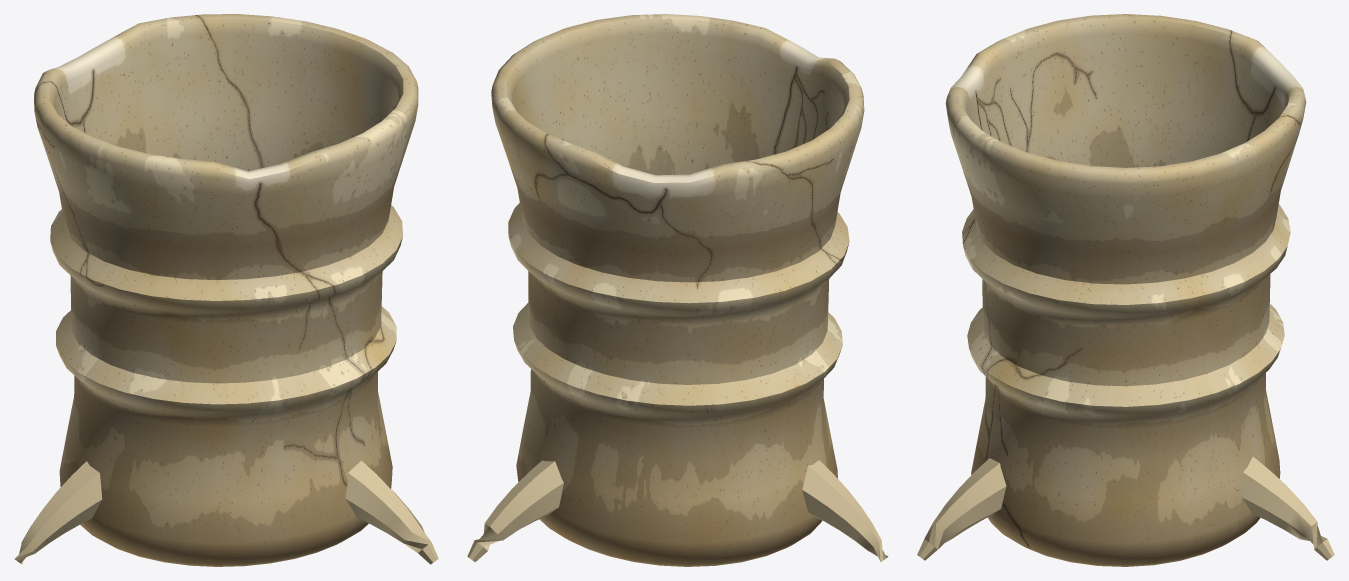
Rendered from Cup_Bone.fbx.
The picture shows the model from 3 angles, left to right: view 1: azimuth 30°, elevation 25°; view 2: azimuth 150°, elevation 25°; view 3: azimuth 270°, elevation 25°; orthographic projection.
Parts seen in each view (by area): view 1: Cup_Bone; view 2: Cup_Bone; view 3: Cup_Bone.
Boxes of the visible parts, <box> form: Cup_Bone: <box>14,14,438,566</box>; Cup_Bone: <box>467,14,888,566</box>; Cup_Bone: <box>917,14,1334,566</box>.
Size of the model in its own units: 0.8375 by 0.9007 by 0.8118.
1 material, 1 textured.
